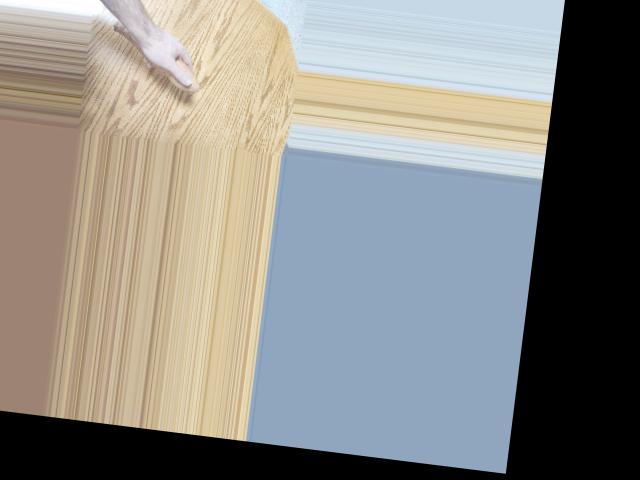sweet_potato: (104, 18, 207, 93)
